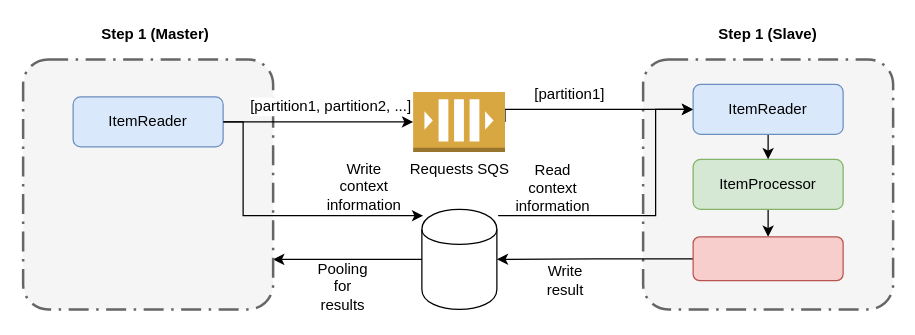
The diagram is 915 pixels wide and 335 high, and some of its shapes have lost their labels. Here are the shapes that lost their labels. From the top down, the centre of each, then its label:
At point (459, 258): "DB".
At point (767, 258): "ItemWriter".
